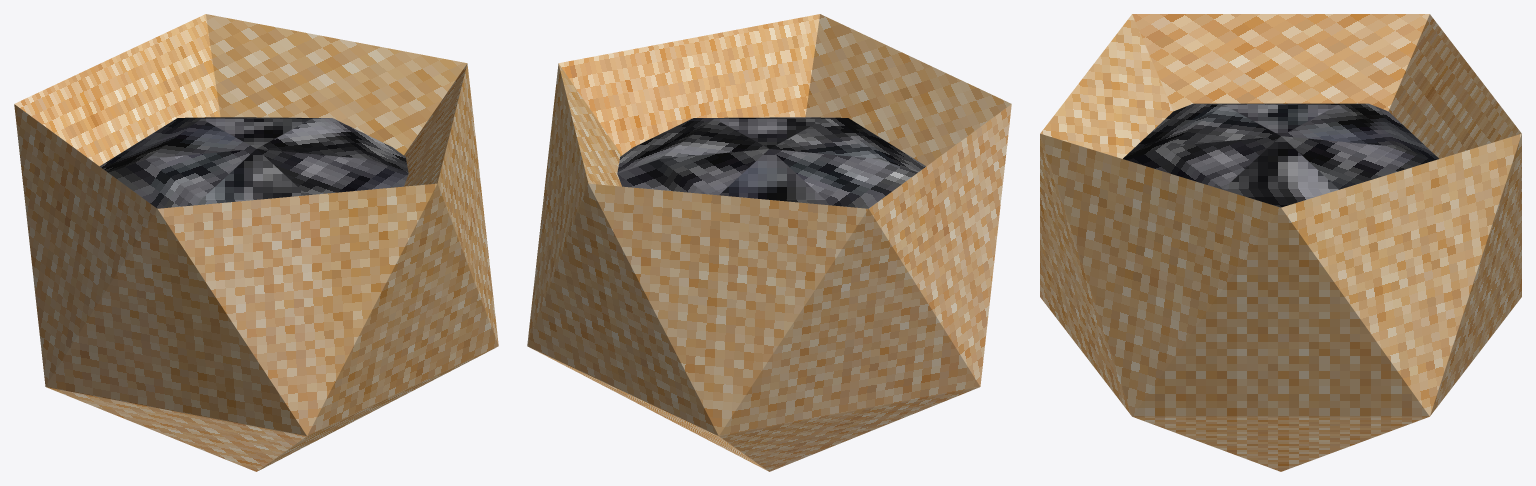
The model's file is kill_me_bag_of_coal.glb.
3 renders of one model, left to right at view 1: azimuth 30°, elevation 25°; view 2: azimuth 150°, elevation 25°; view 3: azimuth 270°, elevation 25°, orthographic. The views are drawn at different scales.
Parts seen in each view (by area): view 1: Icosphere, Sphere; view 2: Icosphere, Sphere; view 3: Icosphere, Sphere.
Part boxes in pixels (x1=…): Icosphere: x1=14, y1=14, x2=498, y2=471; Sphere: x1=100, y1=117, x2=408, y2=208; Icosphere: x1=527, y1=14, x2=1011, y2=471; Sphere: x1=617, y1=117, x2=925, y2=208; Icosphere: x1=1040, y1=14, x2=1521, y2=471; Sphere: x1=1123, y1=103, x2=1438, y2=207.
Bounding box in the file's own units: 0.8944 × 0.7236 × 0.8506.
2 materials, 2 textured.
